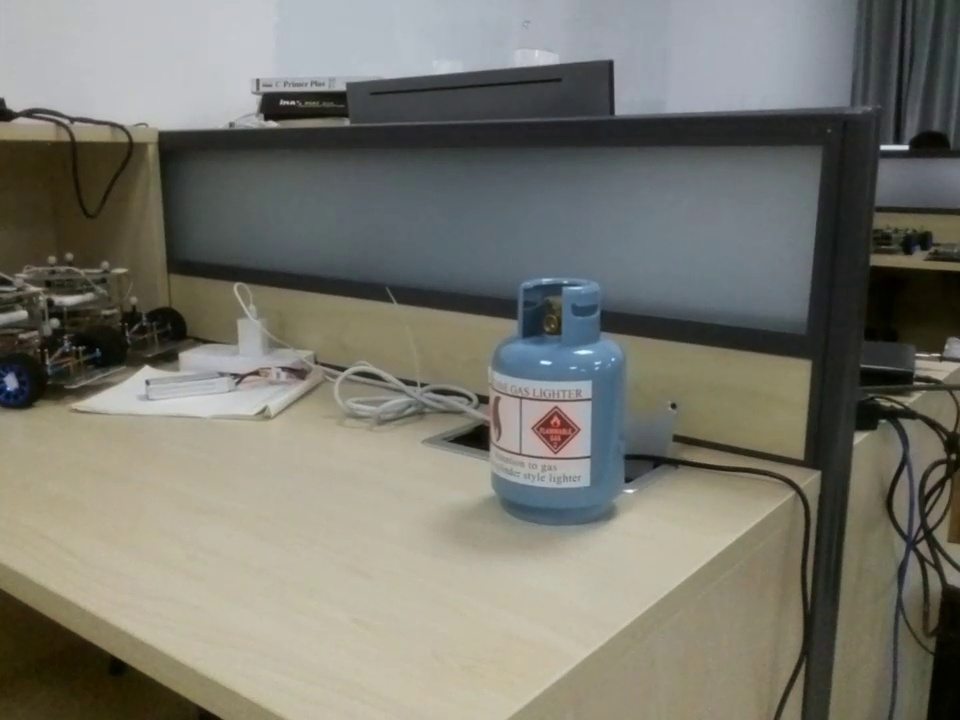gas tank: (475, 274, 660, 525)
